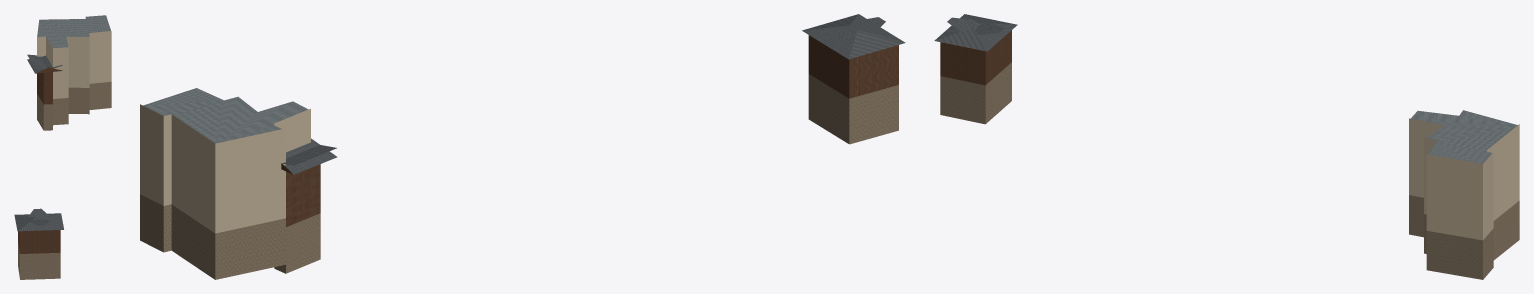
Rendered from bld_c11_29_395.gltf.
3 views of the same model, side by side, from view 1: azimuth 30°, elevation 25°; view 2: azimuth 150°, elevation 25°; view 3: azimuth 270°, elevation 25° (orthographic). The views are drawn at different scales.
Visible parts, largest first — view 1: bld_c11_29_395; view 2: bld_c11_29_395; view 3: bld_c11_29_395.
Part boxes in pixels (x1,y1,x2,y2): bld_c11_29_395: (14,15,111,279); bld_c11_29_395: (140,14,905,279); bld_c11_29_395: (934,14,1519,279).
Size of the model in its own units: 53.04 by 15.98 by 68.5.
7 materials, 7 textured.
